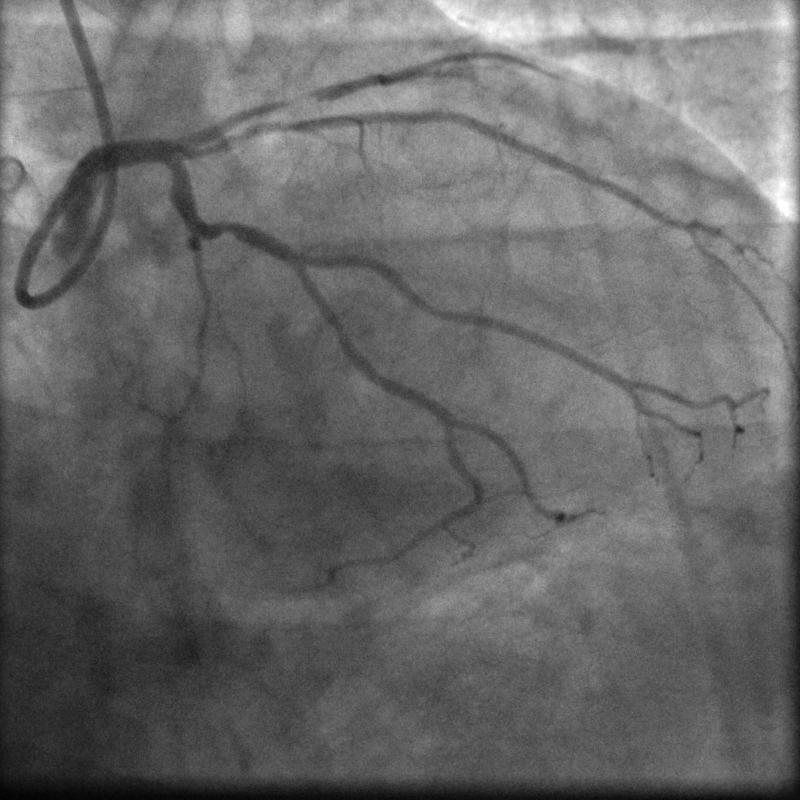Stenosis: (216, 218, 237, 240)
